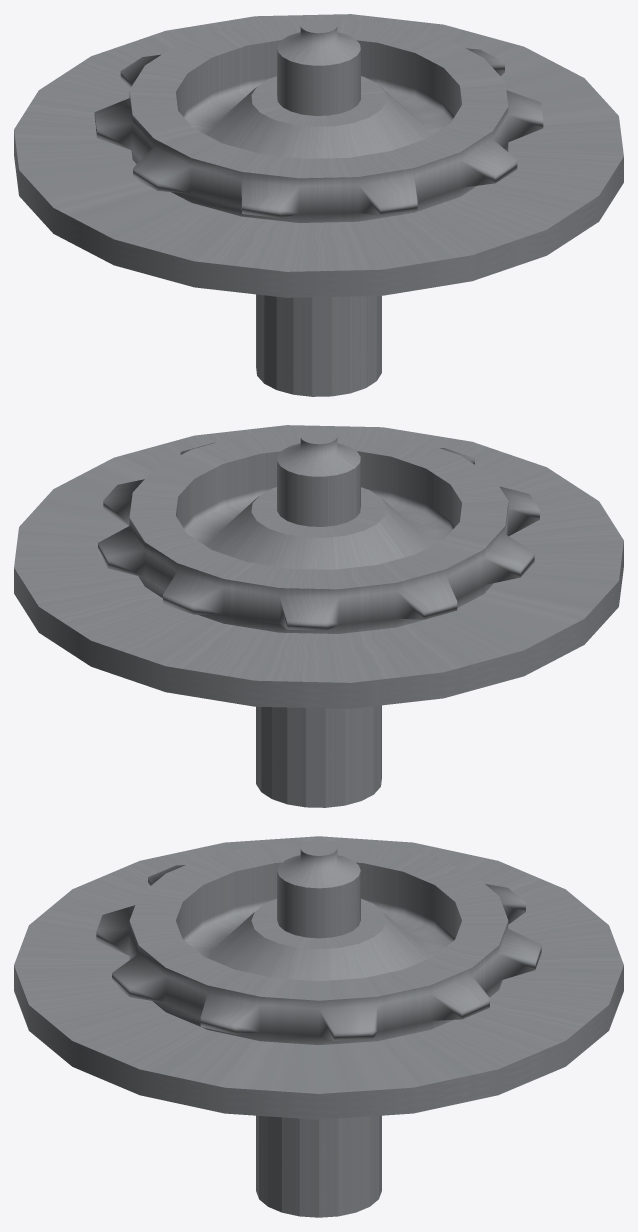
The model's file is Engrenage_cog.fbx.
3 views of the same model, one above another, from view 1: azimuth 30°, elevation 25°; view 2: azimuth 150°, elevation 25°; view 3: azimuth 270°, elevation 25° (orthographic).
Parts seen in each view (by area): view 1: Engrenage_cog; view 2: Engrenage_cog; view 3: Engrenage_cog.
Part boxes in pixels (x1,y1,x2,y2): Engrenage_cog: [14, 14, 623, 396]; Engrenage_cog: [14, 425, 623, 807]; Engrenage_cog: [14, 836, 623, 1217].
Bounding box in the file's own units: 5.77 × 3.58 × 5.77.
